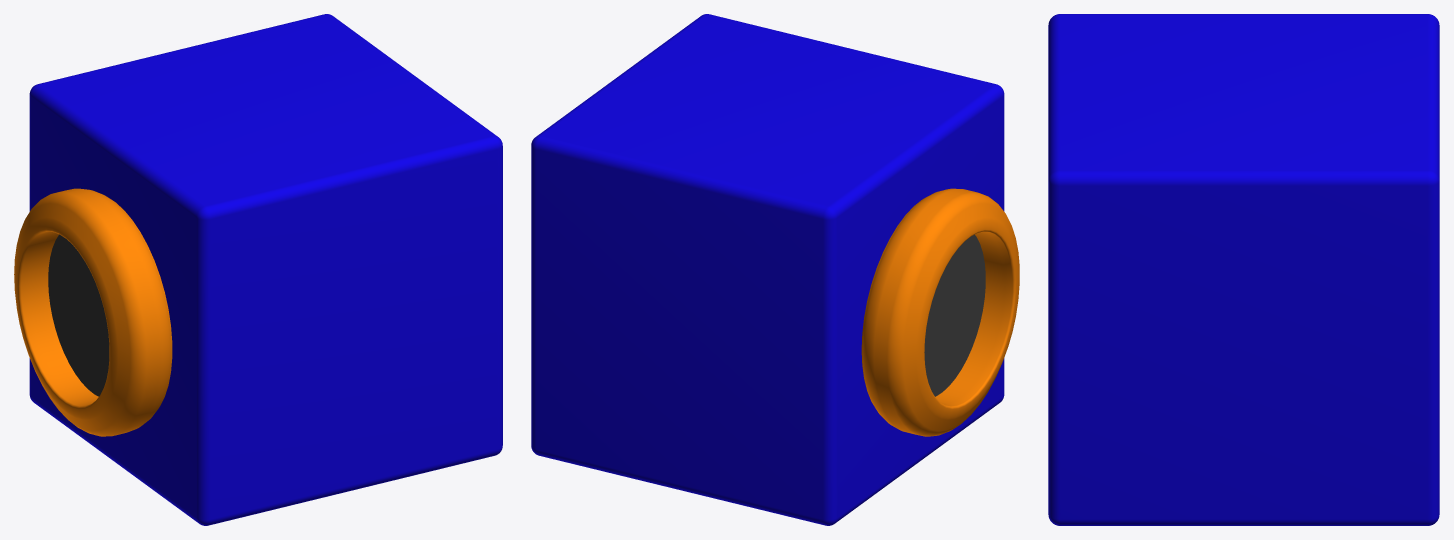
Rendered from cannon_block.glb.
The picture shows the model from 3 angles, left to right: view 1: azimuth 30°, elevation 25°; view 2: azimuth 150°, elevation 25°; view 3: azimuth 270°, elevation 25°; orthographic projection. The views are drawn at different scales.
Parts seen in each view (by area): view 1: Canon_cube_holder, Circle, Cylinder; view 2: Canon_cube_holder, Circle, Cylinder; view 3: Canon_cube_holder.
Boxes of the visible parts, x1,y1,x2,y2 form: Canon_cube_holder: [29, 14, 502, 525]; Circle: [14, 188, 172, 436]; Cylinder: [48, 234, 109, 396]; Canon_cube_holder: [531, 14, 1004, 525]; Circle: [861, 188, 1019, 436]; Cylinder: [924, 234, 985, 396]; Canon_cube_holder: [1048, 14, 1439, 525].
Size of the model in its own units: 2.33 by 2 by 2.
